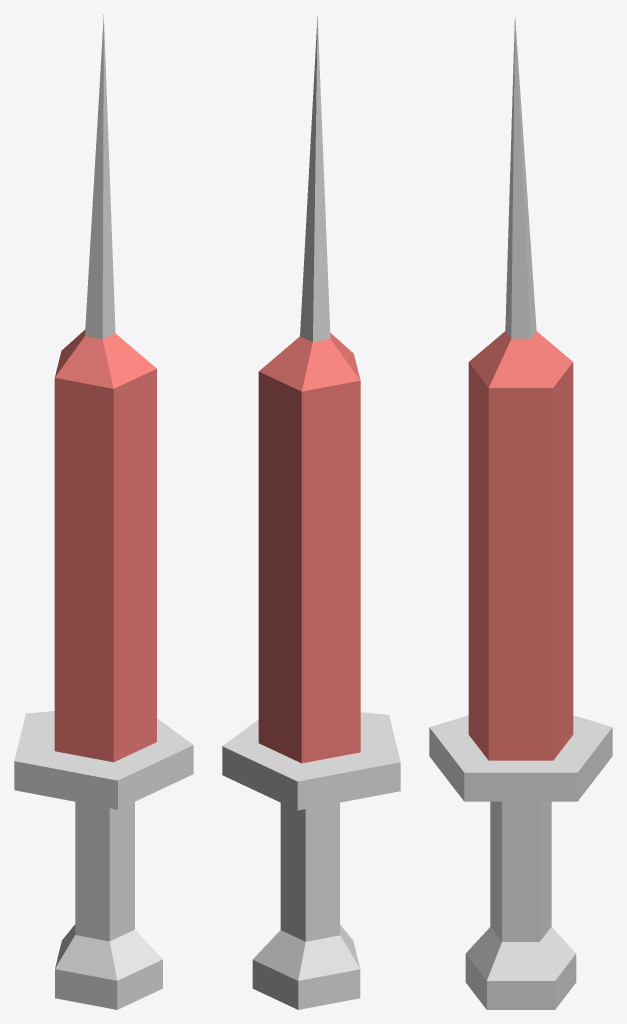
The model's file is Adrenaline.fbx.
3 views of the same model, side by side, from view 1: azimuth 30°, elevation 25°; view 2: azimuth 150°, elevation 25°; view 3: azimuth 270°, elevation 25° (orthographic).
Parts seen in each view (by area): view 1: Adrenaline; view 2: Adrenaline; view 3: Adrenaline.
Boxes of the visible parts, x1,y1,x2,y2 form: Adrenaline: [14, 14, 193, 1009]; Adrenaline: [222, 16, 400, 1009]; Adrenaline: [429, 16, 612, 1009].
Bounding box in the file's own units: 0.0543 × 0.3348 × 0.0571.
